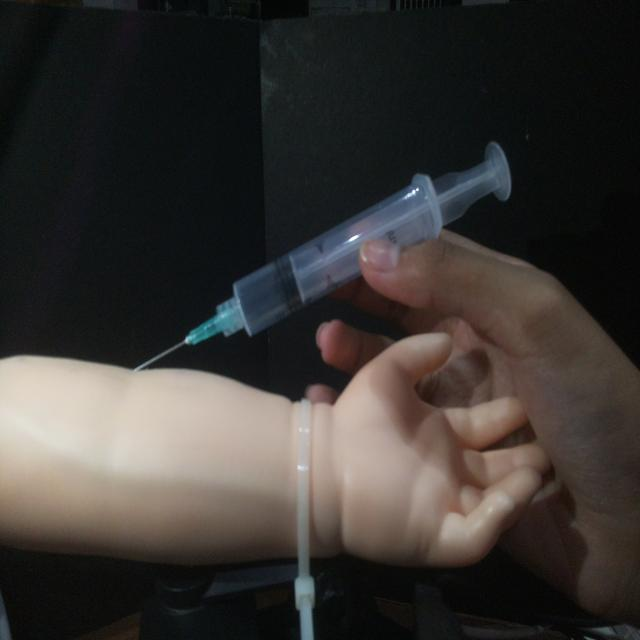22deg: (129, 135, 516, 374)
